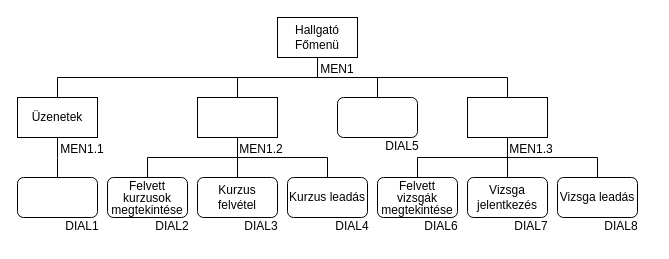
Some shapes in this 669 by 259 pixel diagram are drawn without their labels. Each missing label, with the box of its shape:
Kurzusok: (196, 96, 278, 138)
Személyes adatok megtekintése: (336, 96, 418, 138)
Vizsgák: (466, 96, 548, 138)
Üzenet elolvasása: (16, 176, 98, 218)
